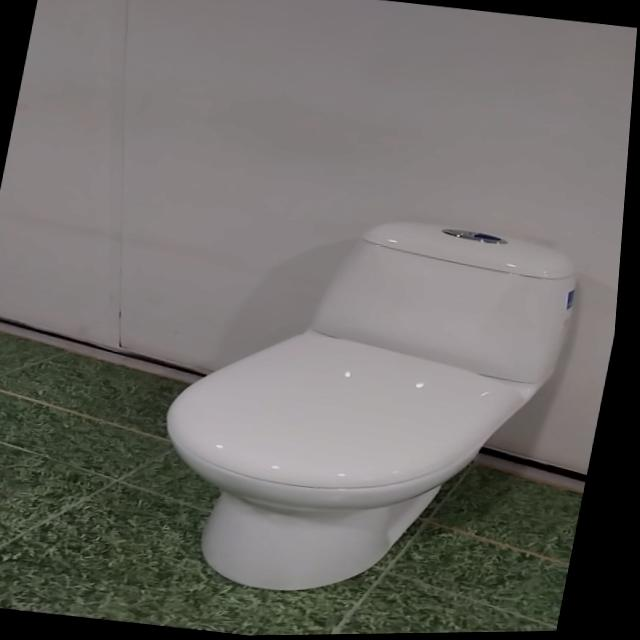toilet: (139, 194, 594, 622)
